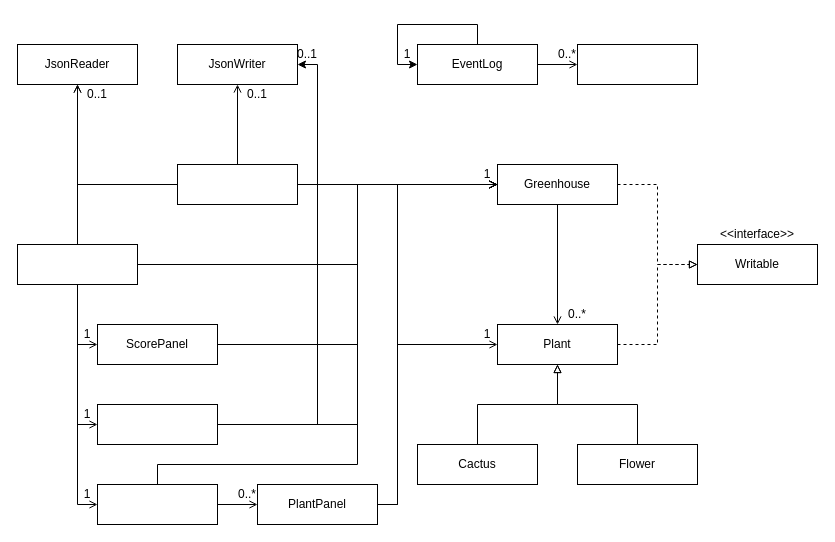
The diagram is 835 pixels wide and 542 high, and some of its shapes have lost their labels. The shapes that lost their labels are listed below. From the top down, each one's centre as x and y in pixels, then its label:
At [637,64]: "Event".
At [237,184]: "ConsoleGame".
At [77,264]: "GuiGame".
At [157,424]: "ToolPanel".
At [157,504]: "PlantsPanel".
